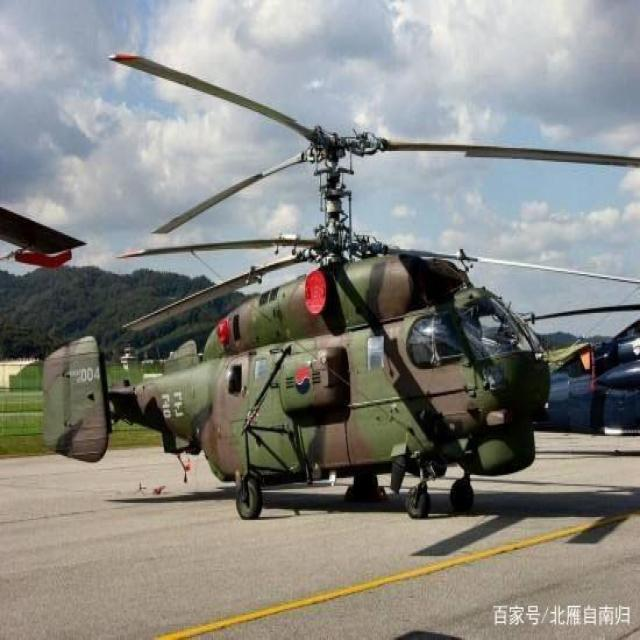MIL_HELO: (36, 42, 640, 522)
